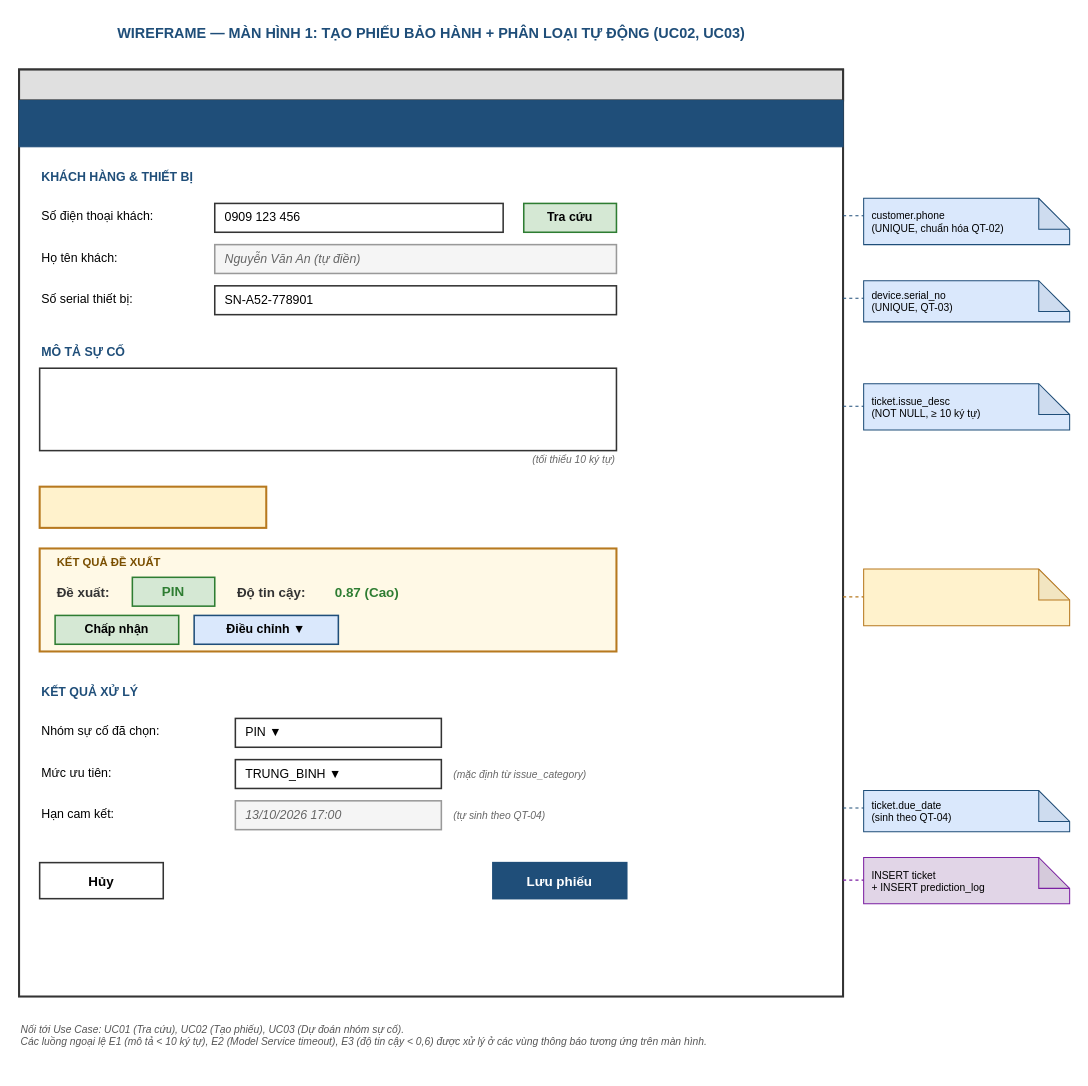
Some shapes in this 1088 by 1086 pixel diagram are drawn without their labels. The box of each missing label's shape, as (x1, y1, x2, y2) in pixels:
Máy không lên nguồn sau khi sạc qua đêm...: (38, 367, 617, 451)
PHÂN LOẠI TỰ ĐỘNG: (38, 485, 267, 528)
prediction_log .predicted_category .confidence: (863, 568, 1070, 626)
TẠO PHIẾU BẢO HÀNH MỚI: (18, 99, 843, 147)
● ● ● Smart CRM — Mekong Mobile: (18, 68, 844, 101)
